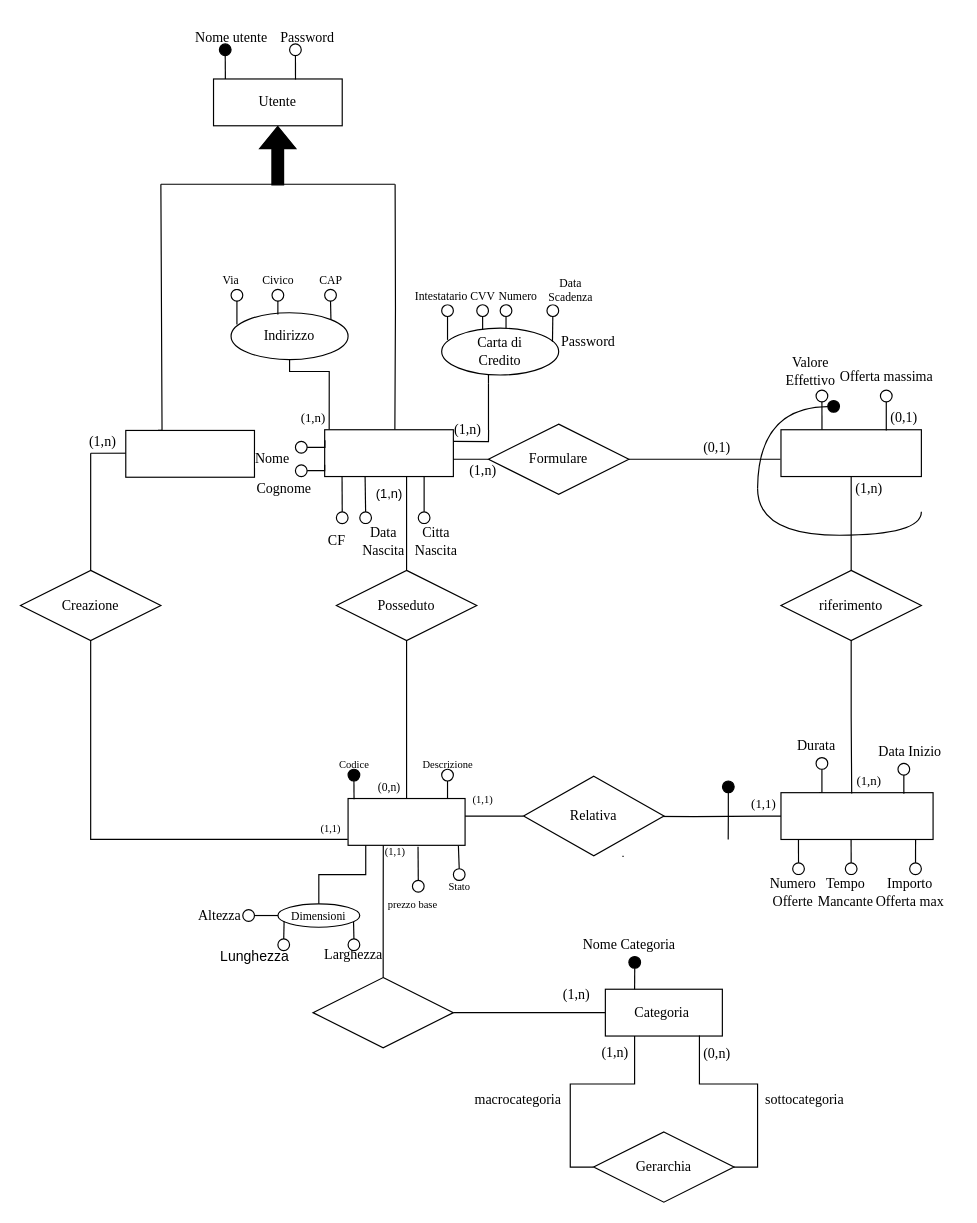
The diagram is 977 pixels wide and 1223 high, and some of its shapes have lost their labels. The shapes that lost their labels are listed below. From the top down, each one's box as (x1, y1, x2, y2) in pixels, then its label:
(125, 429, 254, 477): Amministratore
(324, 429, 453, 477): Cliente
(780, 429, 921, 477): Offerte
(347, 797, 465, 845): Oggetto
(780, 792, 933, 839): Asta
(312, 976, 453, 1048): Appartenenza
